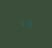four: (19, 19, 24, 27)
nine: (25, 19, 30, 28)
